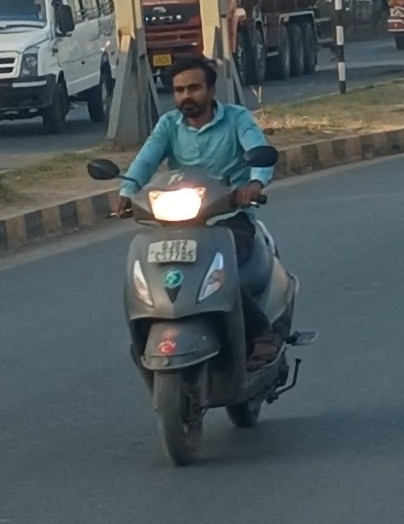Helmet: (162, 52, 225, 120)
NoHelmet: (79, 50, 324, 472)
